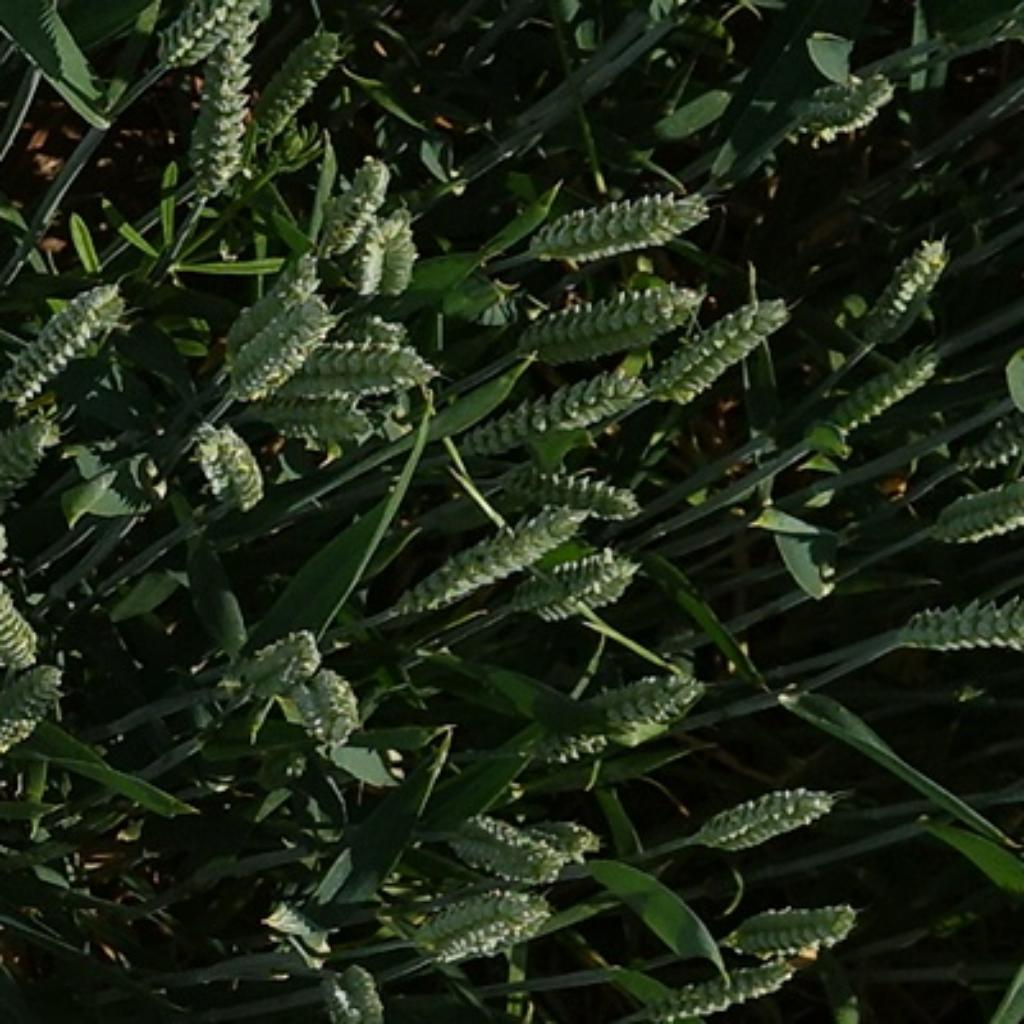0-0: (376, 491, 578, 629), (444, 366, 660, 469), (637, 279, 801, 412), (0, 261, 138, 407), (509, 174, 719, 266), (540, 657, 714, 768), (197, 250, 325, 373), (514, 276, 709, 353), (404, 878, 560, 965), (686, 770, 842, 855), (299, 307, 435, 401), (632, 952, 811, 1021), (821, 337, 949, 432), (179, 48, 256, 204), (230, 299, 332, 414), (151, 2, 286, 79), (719, 893, 872, 960), (865, 225, 960, 332), (256, 376, 391, 448), (258, 20, 350, 125), (524, 535, 637, 619), (506, 458, 647, 522), (918, 474, 1024, 558), (314, 153, 389, 271), (893, 591, 1021, 657), (181, 414, 268, 509), (443, 815, 574, 876), (343, 199, 422, 294), (0, 652, 71, 750), (791, 69, 898, 134), (289, 670, 369, 750), (232, 628, 325, 695), (0, 407, 61, 509), (314, 954, 394, 1024), (0, 565, 53, 668), (513, 813, 615, 866)
